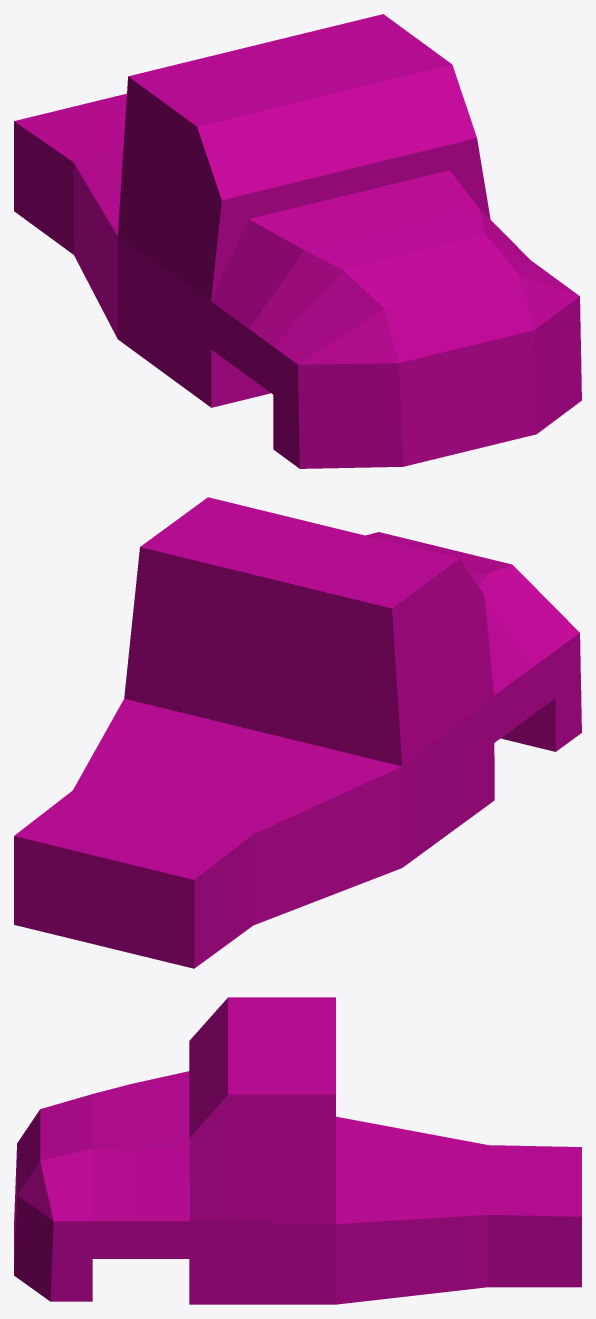
Rendered from SM_Veh_Truck_Collision.fbx.
3 renders of one model, top to bottom at view 1: azimuth 30°, elevation 25°; view 2: azimuth 150°, elevation 25°; view 3: azimuth 270°, elevation 25°, orthographic. The views are drawn at different scales.
Parts seen in each view (by area): view 1: SM_Veh_Truck_Collision; view 2: SM_Veh_Truck_Collision; view 3: SM_Veh_Truck_Collision.
Part boxes in pixels (x1,y1,x2,y2): SM_Veh_Truck_Collision: [14, 14, 581, 468]; SM_Veh_Truck_Collision: [14, 497, 581, 968]; SM_Veh_Truck_Collision: [14, 997, 581, 1304].
Bounding box in the file's own units: 280 × 247 × 624.
